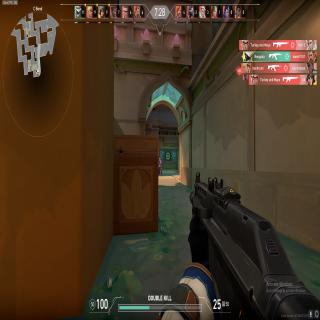ENEMY-BODY: (159, 157, 162, 179)
ENEMY-HEAD: (159, 158, 161, 161)
